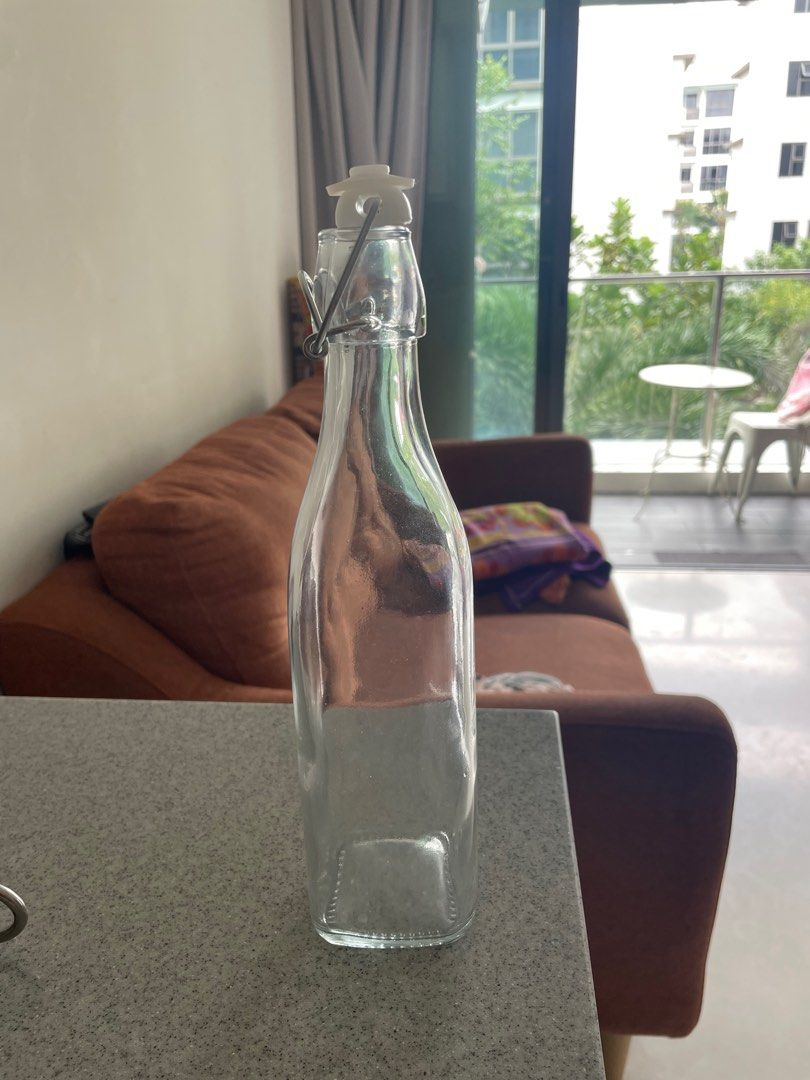glass_bottle: (264, 143, 508, 969)
